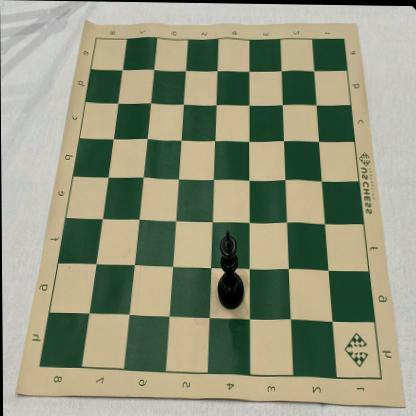black-king: (216, 229, 244, 309)
